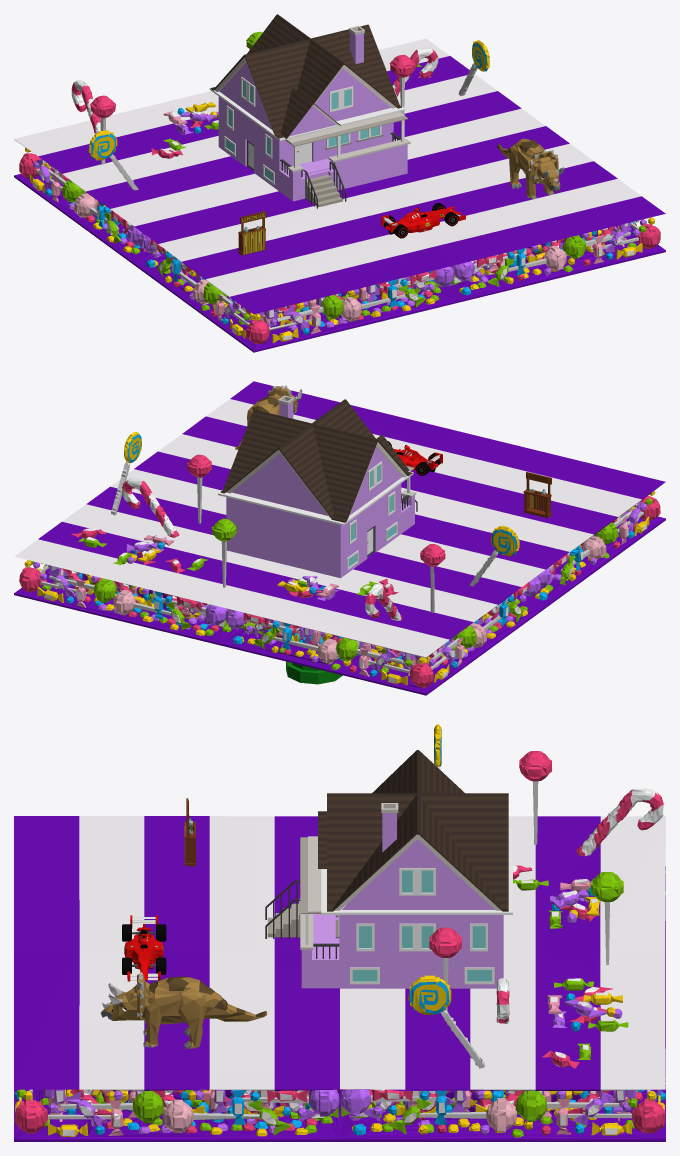
The picture shows the model from 3 angles, top to bottom: view 1: azimuth 30°, elevation 25°; view 2: azimuth 150°, elevation 25°; view 3: azimuth 270°, elevation 25°; orthographic projection. The views are drawn at different scales.
Visible parts, largest first — view 1: TERRAIN_CANDY, Cube.391, ANIMAL_Triceratops, VEHICLES_FORMULA_1, OBJRANDOM_LEMONADE_STAND; view 2: TERRAIN_CANDY, Cube.391, OBJRANDOM_LEMONADE_STAND, ANIMAL_Triceratops, UNDERGROUND_PIPES, VEHICLES_FORMULA_1; view 3: TERRAIN_CANDY, Cube.391, ANIMAL_Triceratops, VEHICLES_FORMULA_1, OBJRANDOM_LEMONADE_STAND.
Boxes of the visible parts, bbox=[...] form: TERRAIN_CANDY: bbox=[14, 31, 665, 352]; Cube.391: bbox=[209, 14, 410, 208]; ANIMAL_Triceratops: bbox=[497, 138, 564, 199]; VEHICLES_FORMULA_1: bbox=[381, 203, 465, 238]; OBJRANDOM_LEMONADE_STAND: bbox=[238, 211, 266, 255]; TERRAIN_CANDY: bbox=[14, 381, 665, 695]; Cube.391: bbox=[218, 395, 417, 578]; OBJRANDOM_LEMONADE_STAND: bbox=[523, 472, 551, 518]; ANIMAL_Triceratops: bbox=[235, 385, 302, 449]; UNDERGROUND_PIPES: bbox=[286, 661, 342, 684]; VEHICLES_FORMULA_1: bbox=[387, 441, 442, 475]; TERRAIN_CANDY: bbox=[14, 724, 665, 1141]; Cube.391: bbox=[265, 750, 512, 988]; ANIMAL_Triceratops: bbox=[100, 972, 267, 1048]; VEHICLES_FORMULA_1: bbox=[122, 915, 166, 981]; OBJRANDOM_LEMONADE_STAND: bbox=[184, 798, 195, 866].
Bounding box in the file's own units: 4059 × 2168 × 4000.
35 materials, 2 textured.
